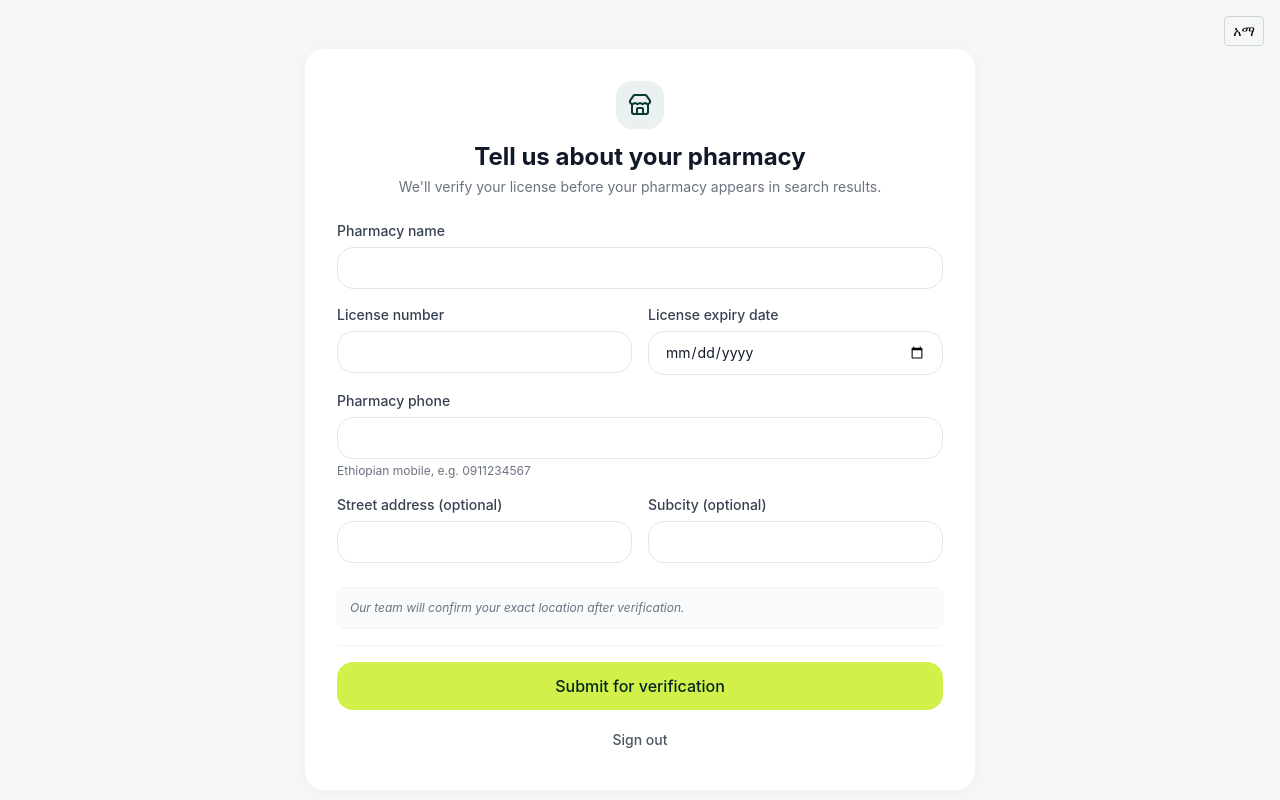
PendingPage — create-pharmacy flow › submits form, sends Addis coordinates, and shows waiting screen after success
Step 1. Type "Test Pharmacy" into the field labelled "Pharmacy name" → (640, 268), box x1=337 y1=247 x2=943 y2=289
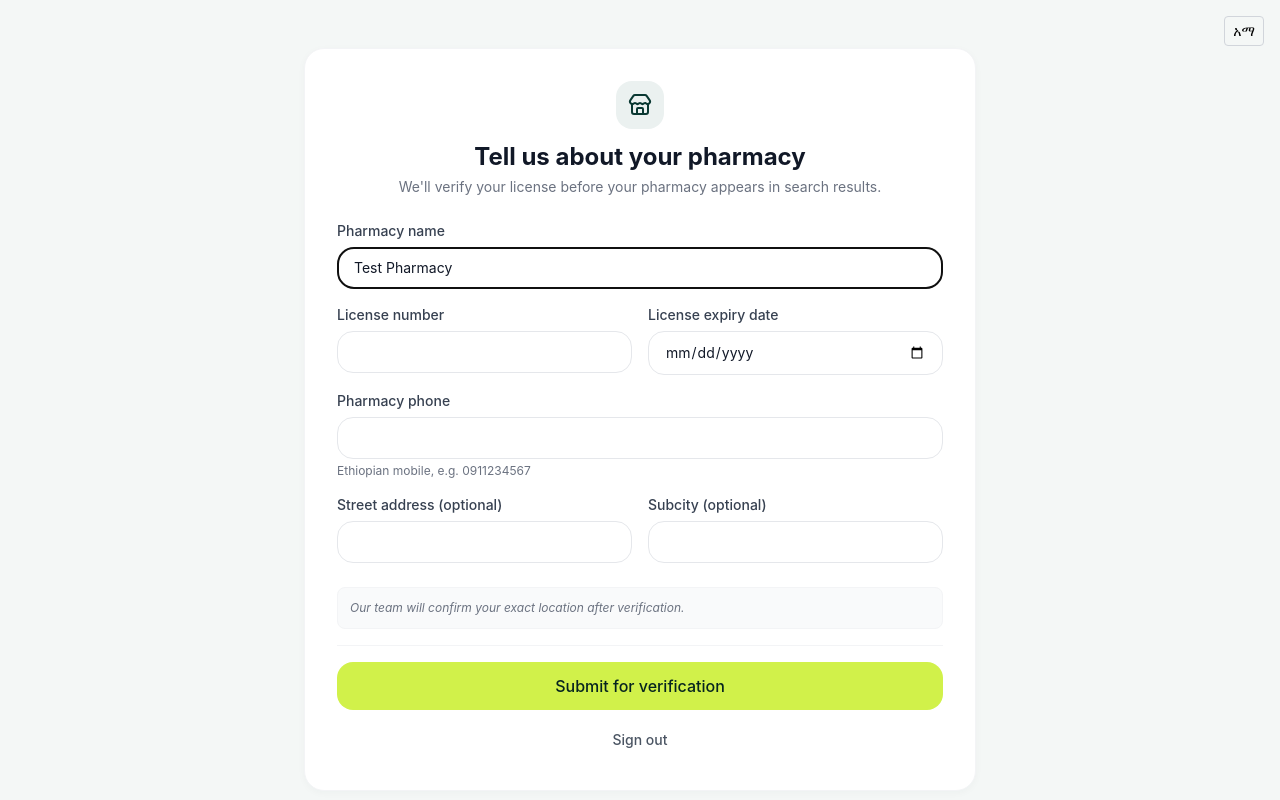
Step 2. Type "LIC-ABC-001" into the field labelled "License number" → (484, 352), box x1=337 y1=331 x2=632 y2=373
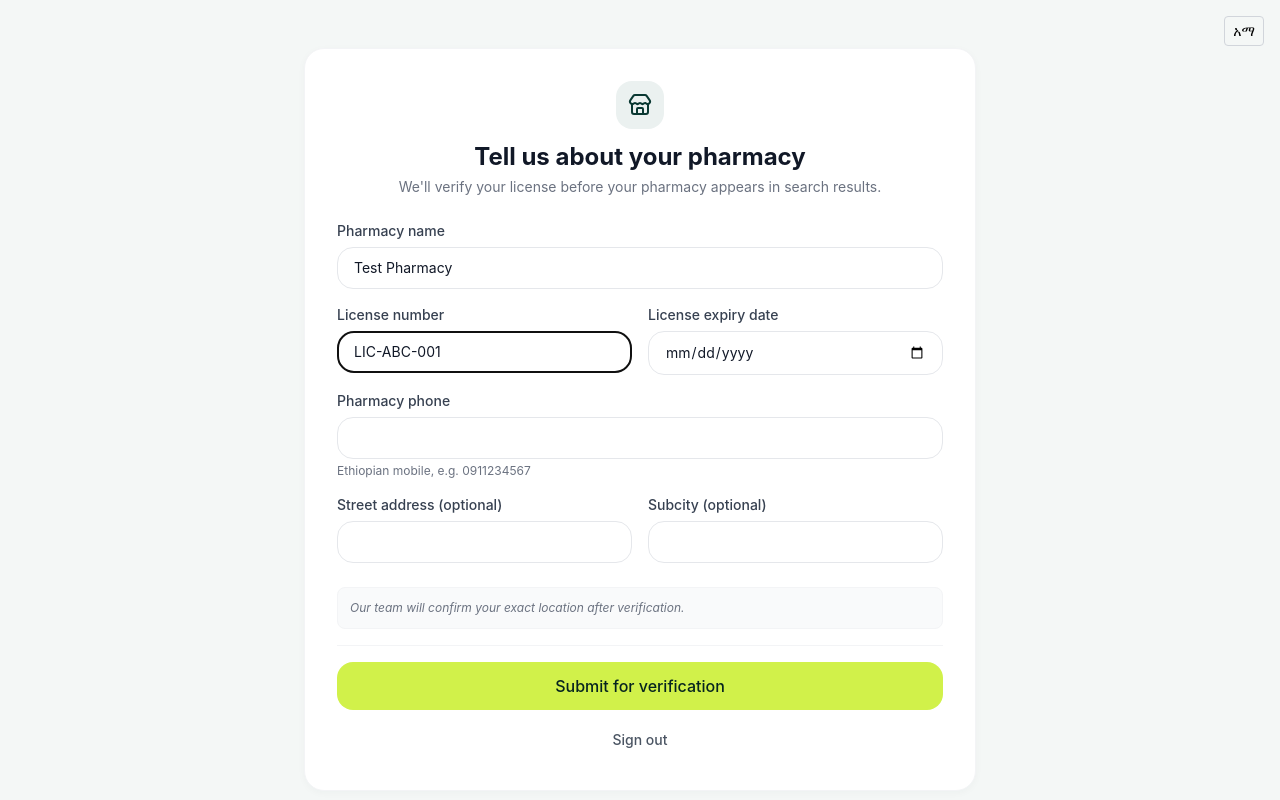
Step 3. Type "2027-12-31" into the date field labelled "License expiry date" → (796, 353), box x1=648 y1=331 x2=943 y2=375
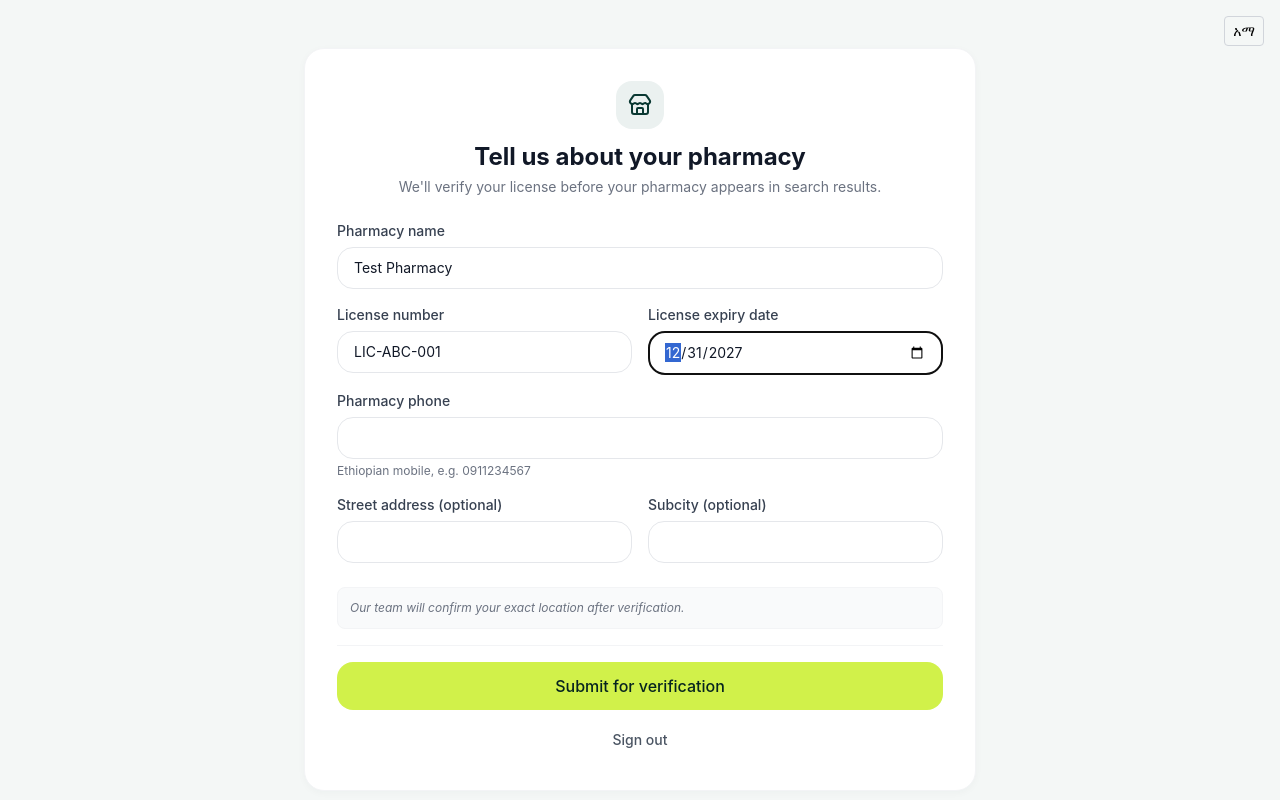
Step 4. Type "0911234567" into the field labelled "Pharmacy phone Ethiopian mobile, e.g. 0911234567" → (640, 438), box x1=337 y1=417 x2=943 y2=459
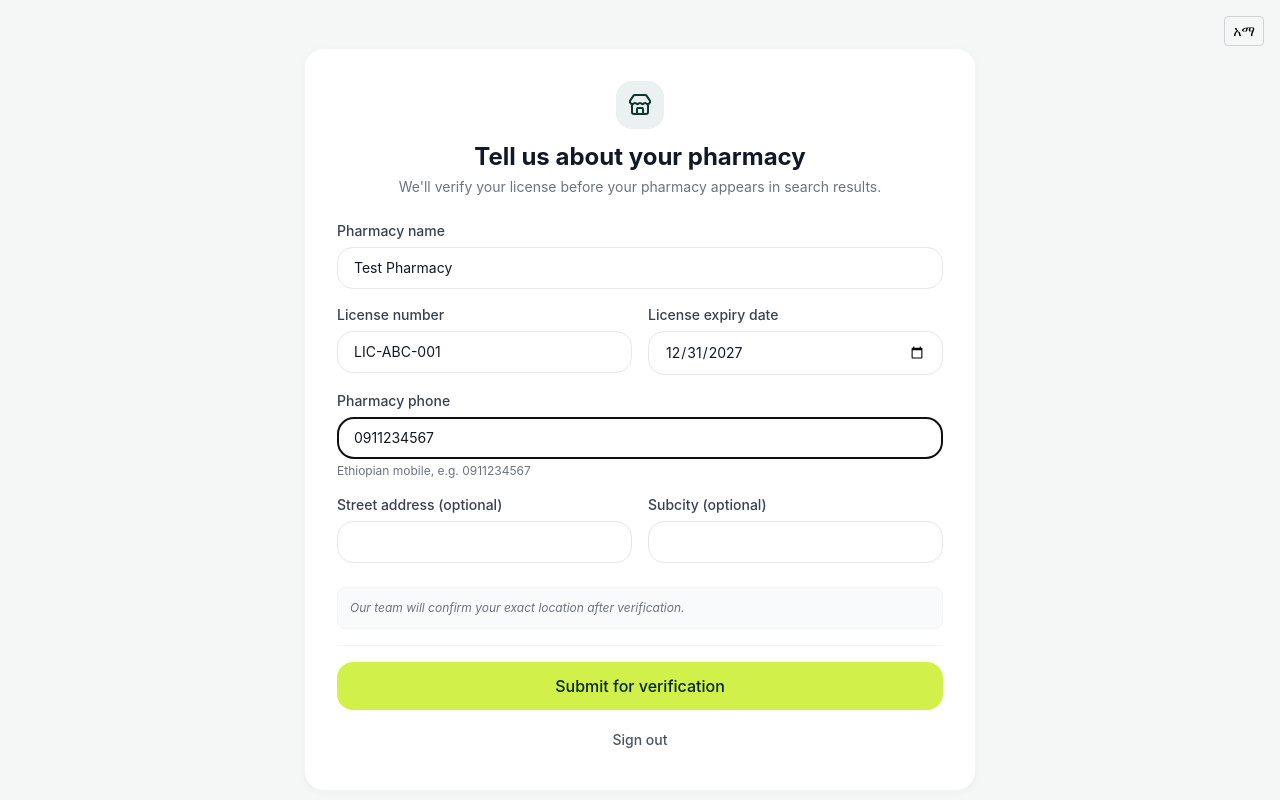
Step 5. Click the button "Submit for verification" → (640, 686), box x1=337 y1=662 x2=943 y2=710
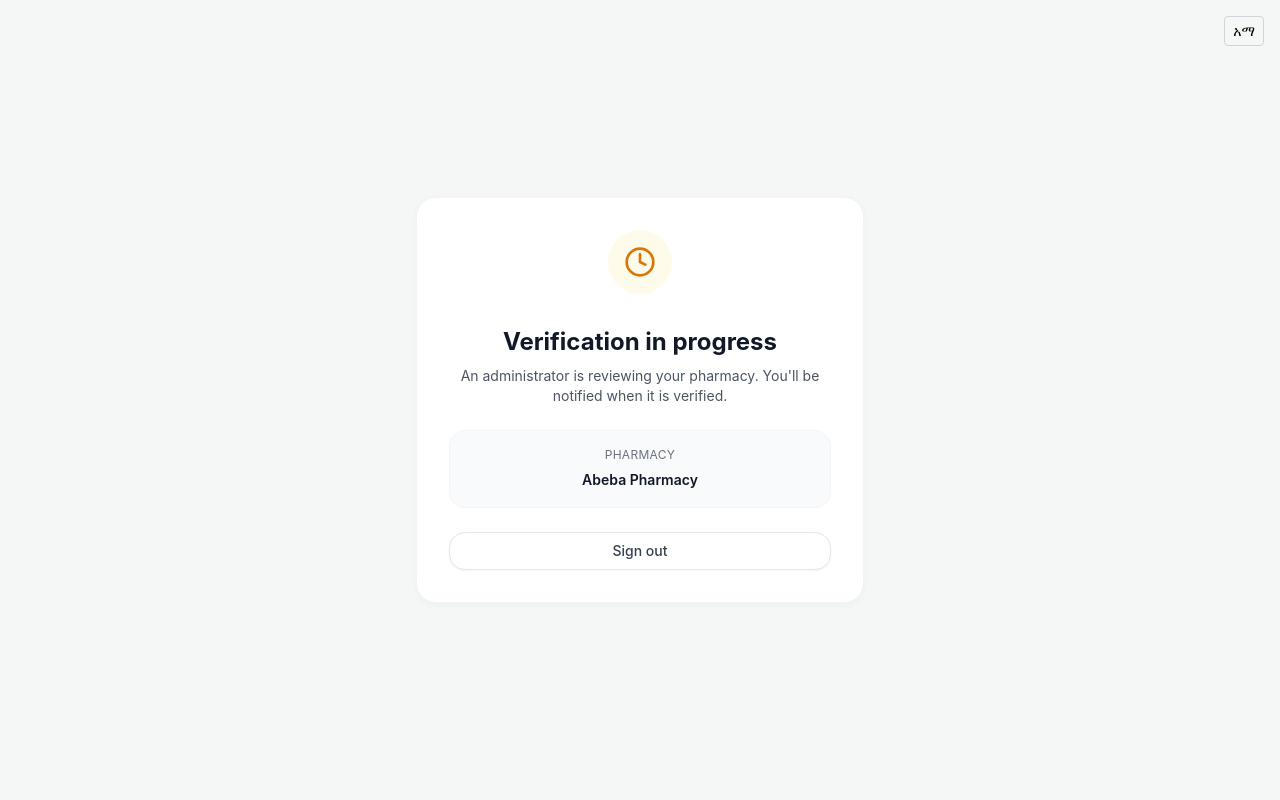
Result: the heading "Verification in progress" is shown at x1=503 y1=327 x2=777 y2=356
